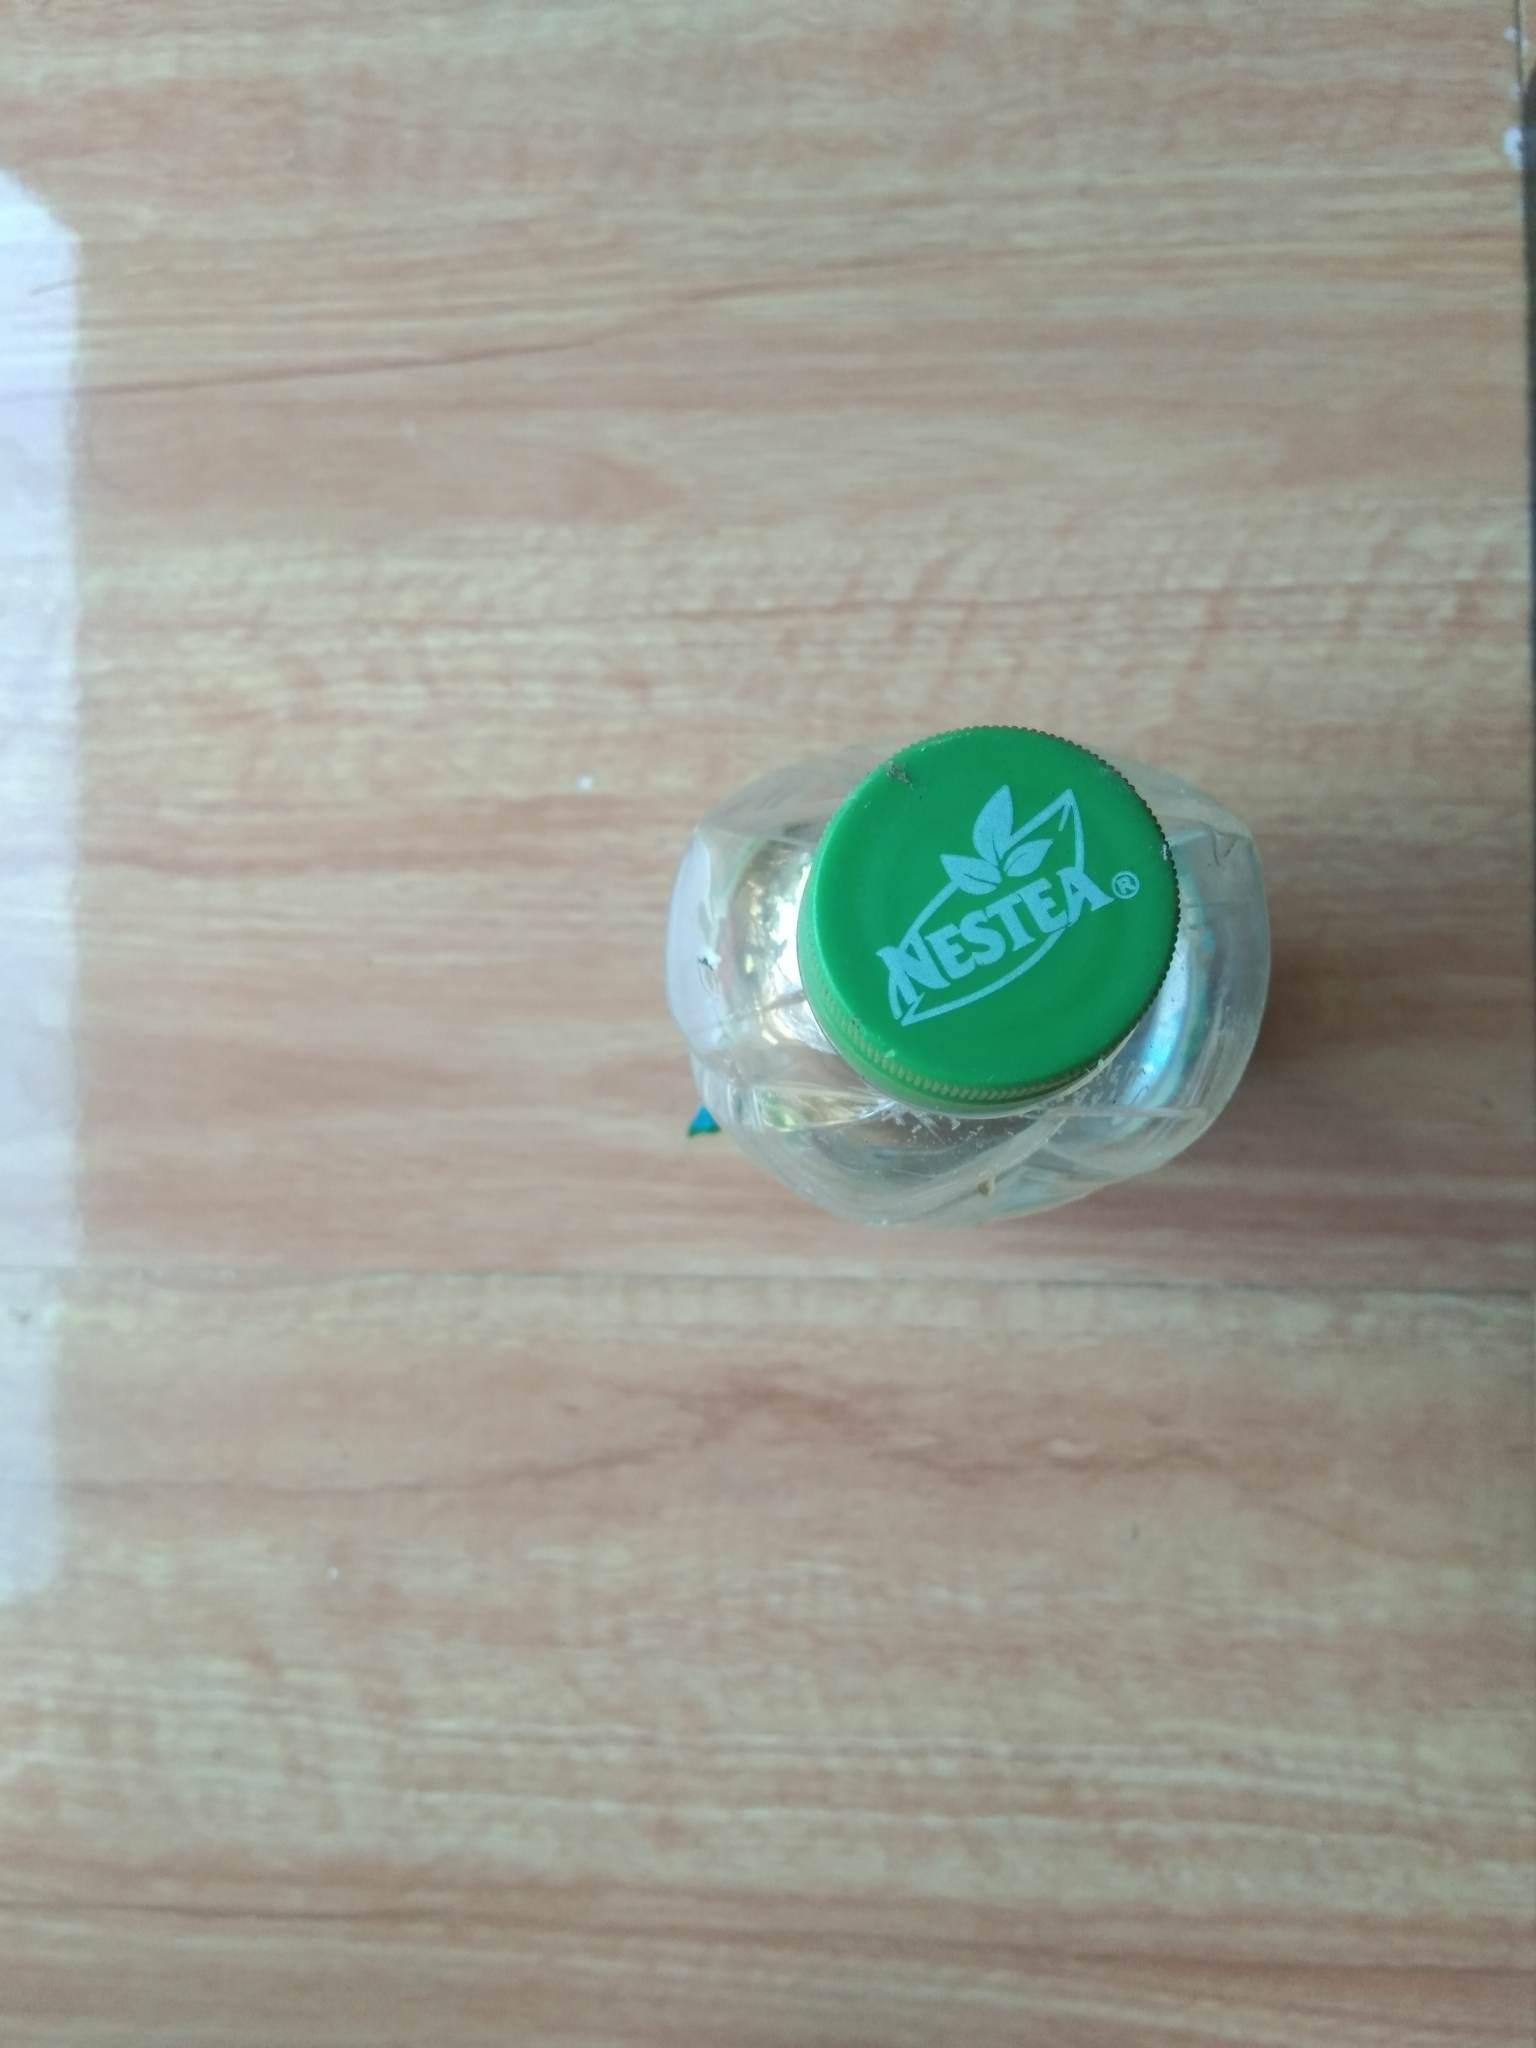plastic: (536, 664, 1363, 1334)
